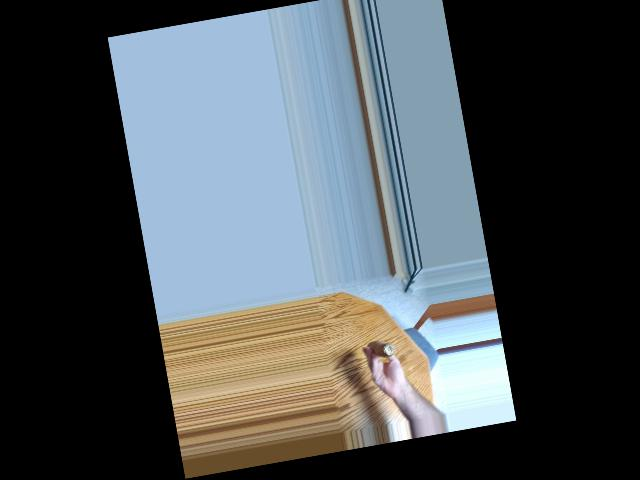sweet_potato: (365, 336, 400, 365)
